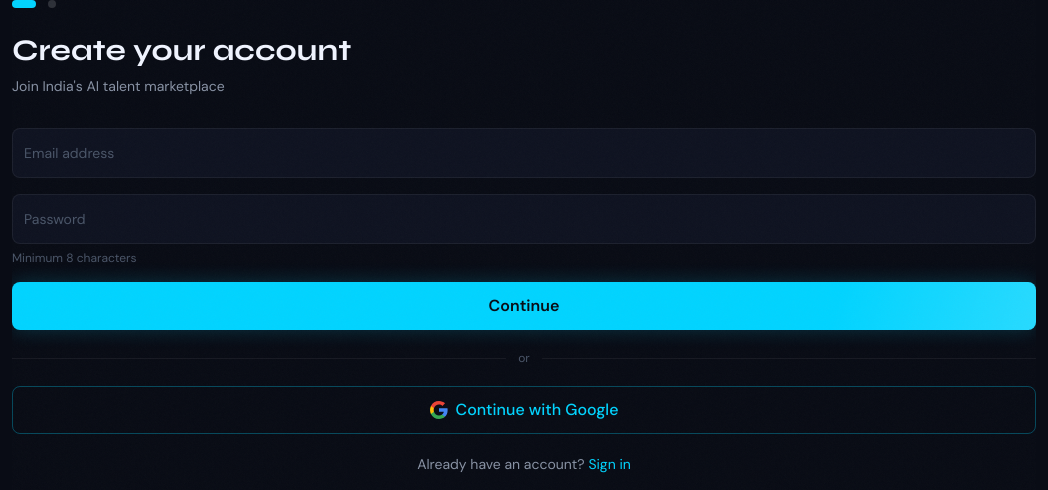
Test: Signup — Role Selector › advances to role selector after valid credentials
Type "test@example.com" into the field labelled "Email address".
click(524, 153); type("test@example.com")  # box [12, 128, 1036, 178]
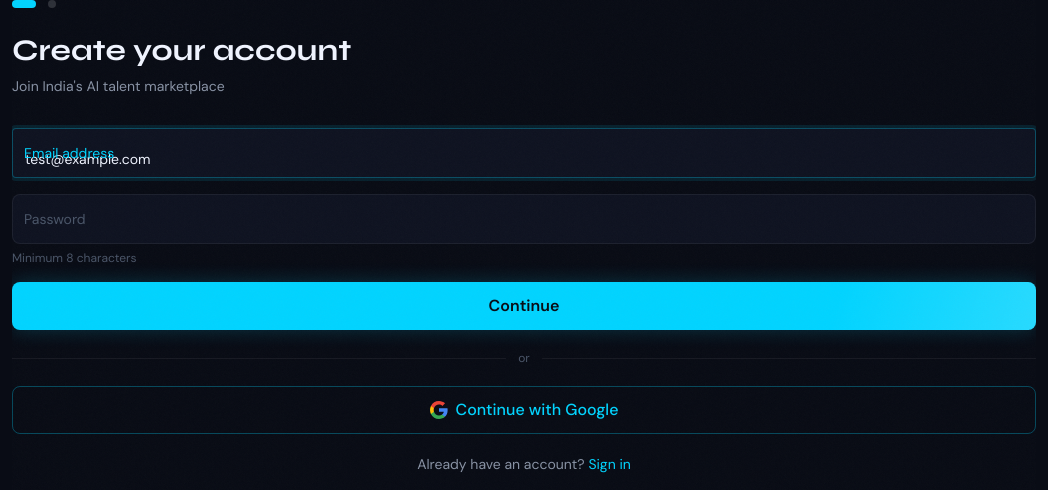
Type "password123" into the password field labelled "Password".
click(524, 219); type("password123")  # box [12, 194, 1036, 244]
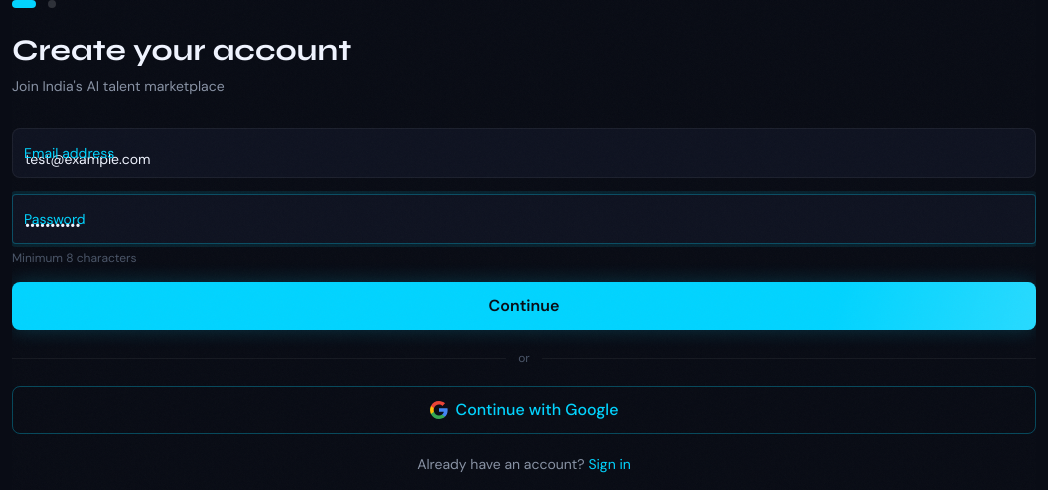
Click the button "Continue".
click(524, 306)  # box [12, 282, 1036, 330]
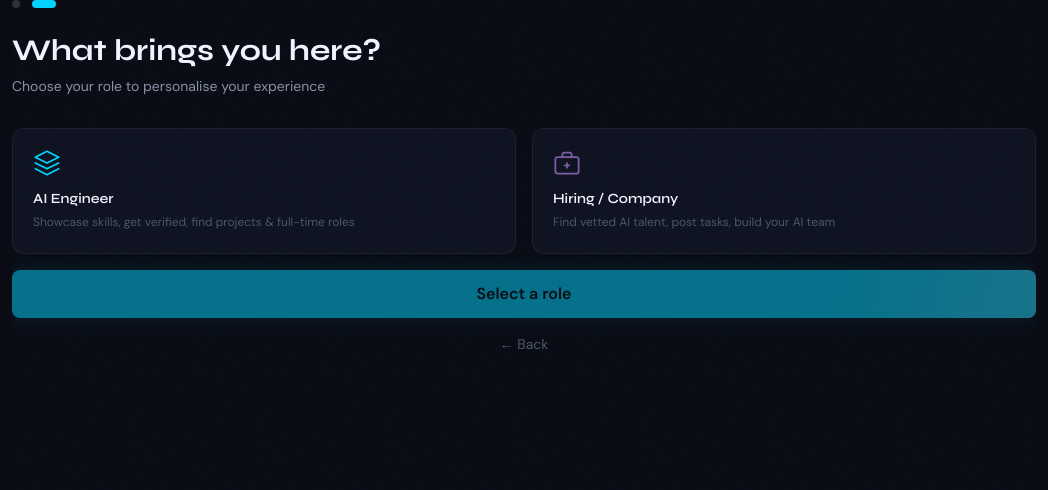
Now the heading "What brings you here?" is shown, box [12, 32, 381, 68]
Now the text "AI Engineer" is shown, box [33, 190, 114, 207]
Now the text "Hiring / Company" is shown, box [553, 190, 678, 207]
